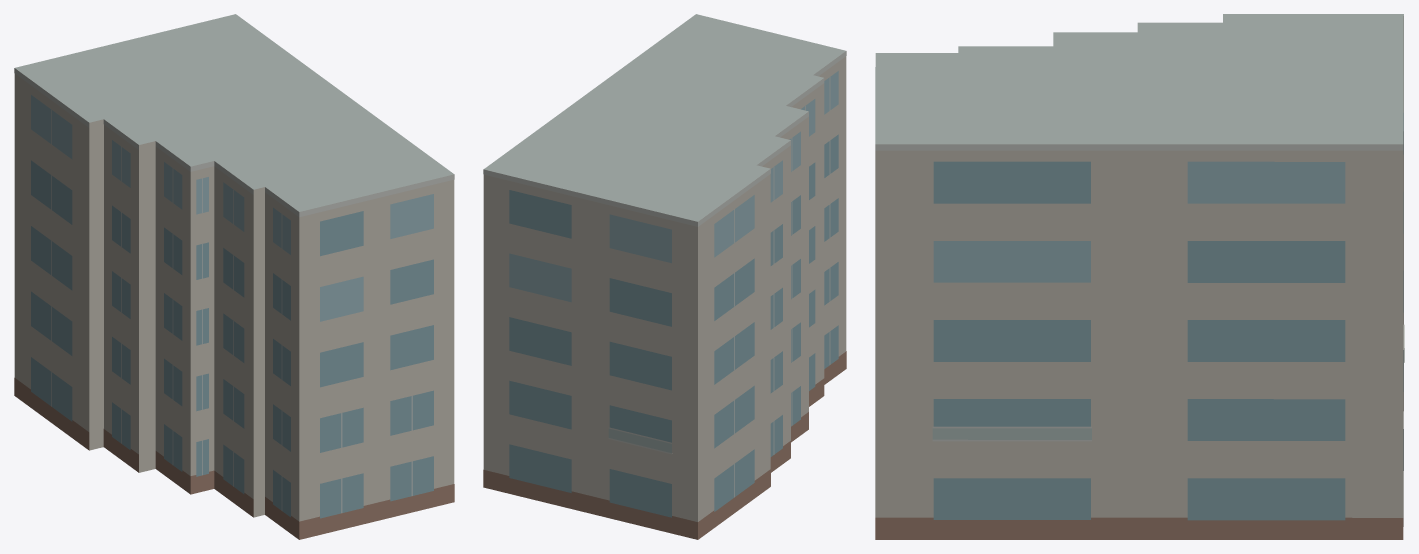
Rendered from survey-upis-32607666.glb.
3 renders of one model, left to right at view 1: azimuth 30°, elevation 25°; view 2: azimuth 150°, elevation 25°; view 3: azimuth 270°, elevation 25°, orthographic. The views are drawn at different scales.
Visible parts, largest first — view 1: survey-upis-32607666.tmp; view 2: survey-upis-32607666.tmp; view 3: survey-upis-32607666.tmp.
Boxes of the visible parts, x1,y1,x2,y2 form: survey-upis-32607666.tmp: (14, 14, 454, 539); survey-upis-32607666.tmp: (483, 14, 846, 539); survey-upis-32607666.tmp: (875, 14, 1404, 539).
Bounding box in the file's own units: 10.81 × 15.25 × 18.51.
